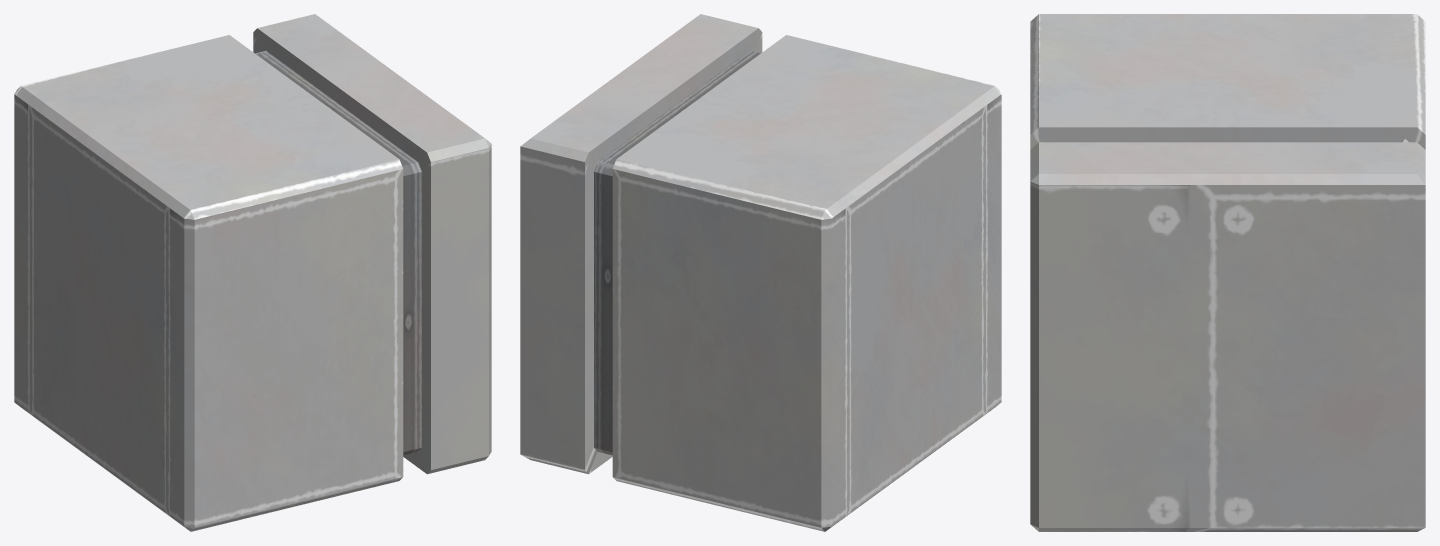
File: SM_Crate.fbx
3 views of the same model, side by side, from view 1: azimuth 30°, elevation 25°; view 2: azimuth 150°, elevation 25°; view 3: azimuth 270°, elevation 25° (orthographic). The views are drawn at different scales.
Parts seen in each view (by area): view 1: SM_Crate; view 2: SM_Crate; view 3: SM_Crate.
Boxes of the visible parts, x1,y1,x2,y2 form: SM_Crate: (14, 14, 491, 531); SM_Crate: (520, 14, 1001, 531); SM_Crate: (1030, 14, 1425, 531).
Size of the model in its own units: 100 by 100 by 100.
